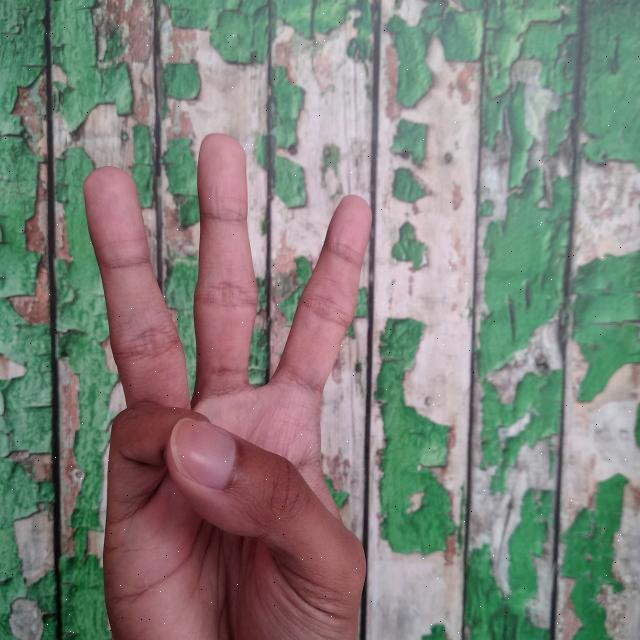W: (67, 121, 387, 640)
